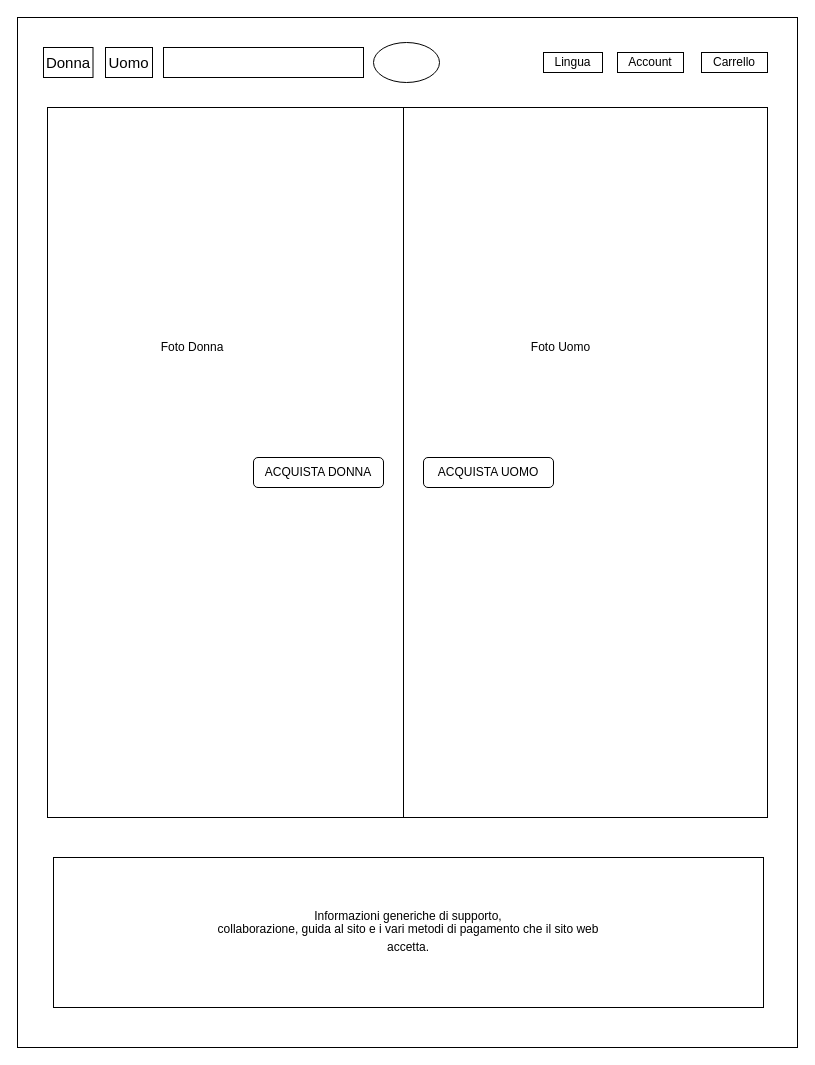
The diagram is 815 pixels wide and 1065 high, and some of its shapes have lost their labels. The shapes that lost their labels are listed below. From the top down, each one's box as (x1, y1, x2, y2) in pixels, then its label:
(162, 46, 364, 78): Ricerca
(372, 42, 440, 82): Tøj
